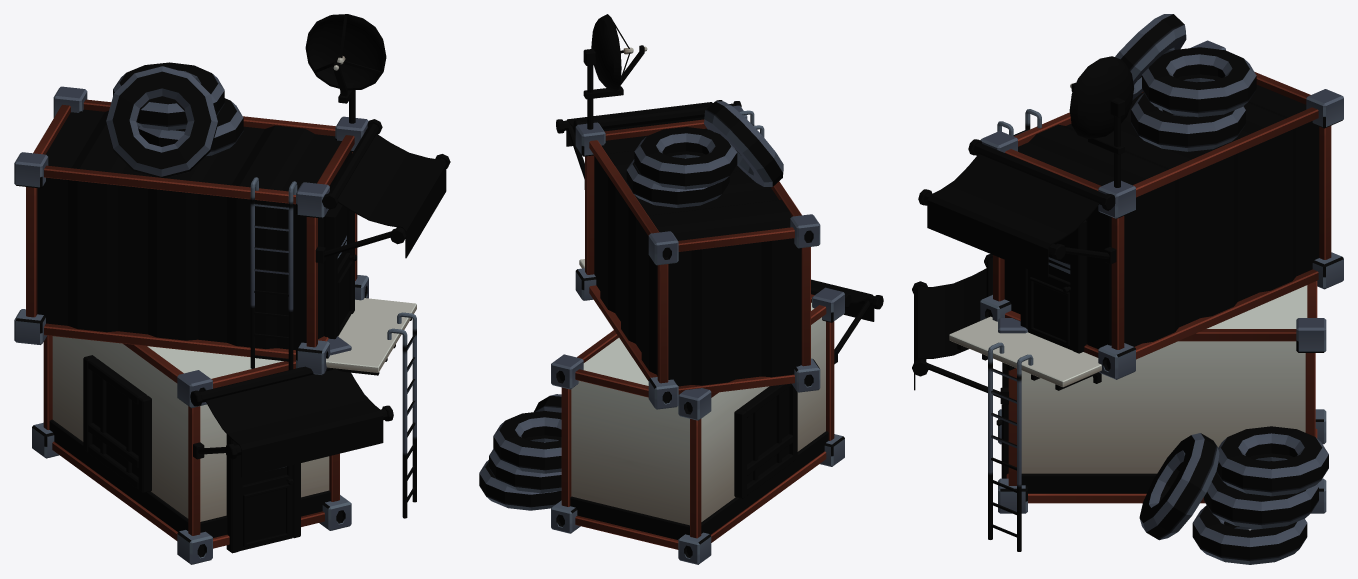
File: house1.fbx
The picture shows the model from 3 angles, left to right: view 1: azimuth 30°, elevation 25°; view 2: azimuth 150°, elevation 25°; view 3: azimuth 270°, elevation 25°; orthographic projection. The views are drawn at different scales.
Parts seen in each view (by area): view 1: finb_house_02.001; view 2: finb_house_02.001; view 3: finb_house_02.001.
Part boxes in pixels (bbox=[...]): finb_house_02.001: bbox=[14, 14, 450, 564]; finb_house_02.001: bbox=[479, 14, 883, 564]; finb_house_02.001: bbox=[912, 14, 1343, 564].
Bounding box in the file's own units: 651 × 803 × 656.
1 material, 1 textured.
